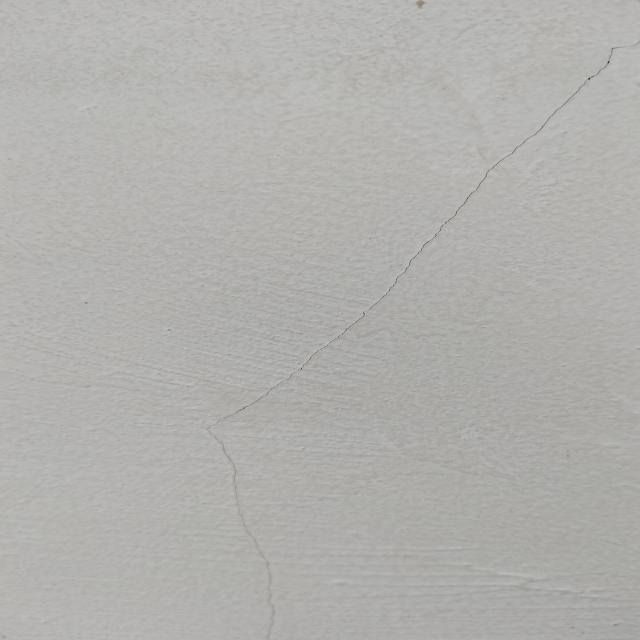Crack: (201, 42, 634, 640)
